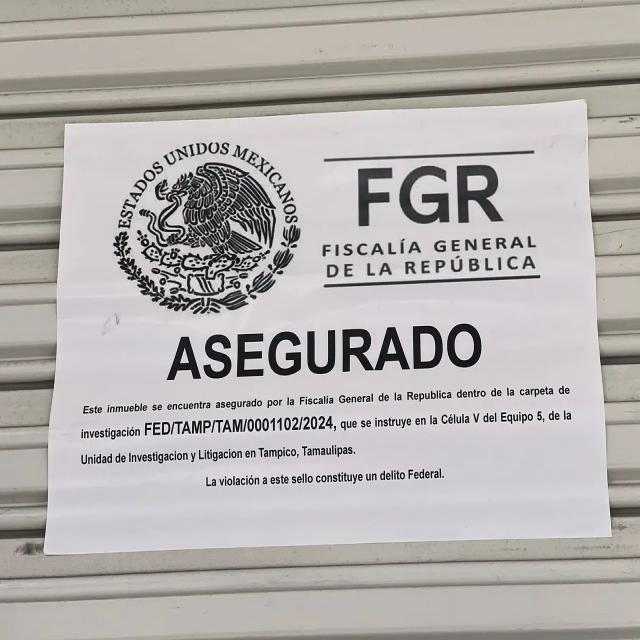stamps: (48, 100, 603, 550)
